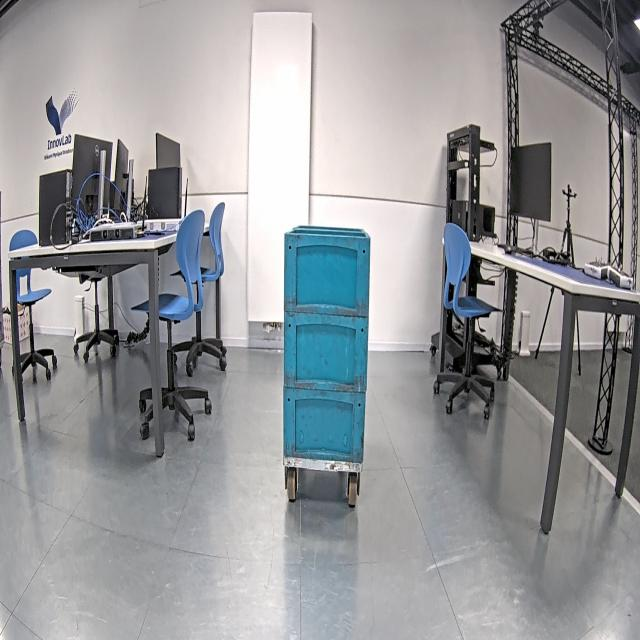BoxB8: (283, 226, 371, 320), (283, 312, 368, 394), (282, 388, 368, 466)
